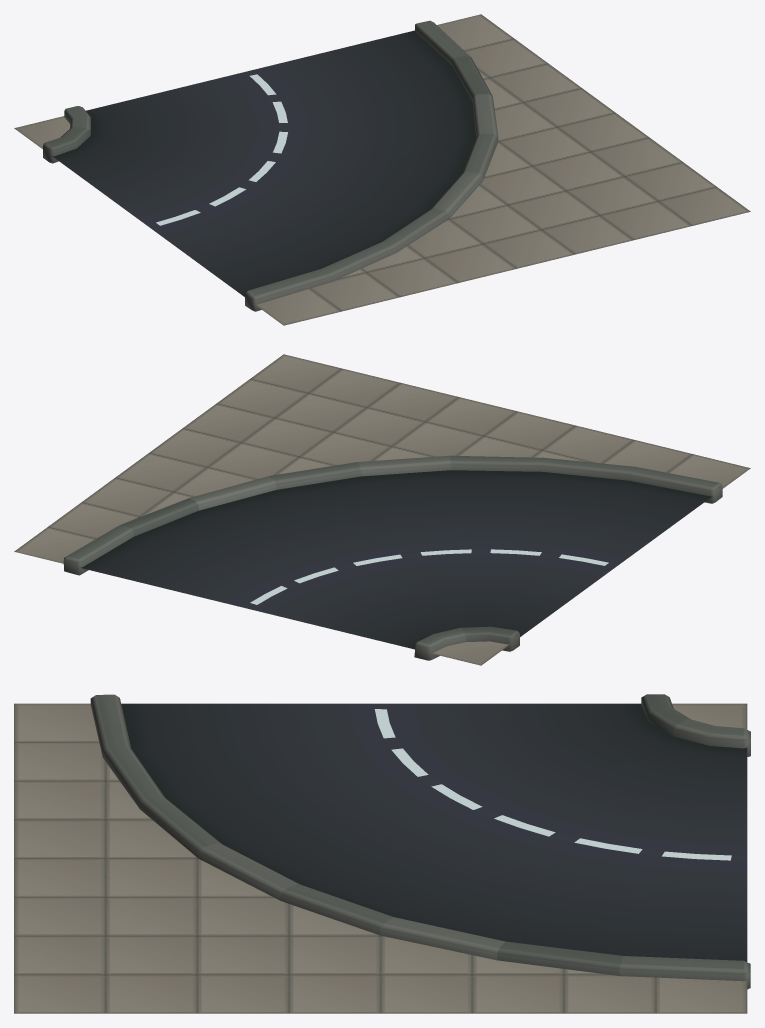
3 renders of one model, top to bottom at view 1: azimuth 30°, elevation 25°; view 2: azimuth 150°, elevation 25°; view 3: azimuth 270°, elevation 25°, orthographic. The views are drawn at different scales.
Parts seen in each view (by area): view 1: road_section_turn_tight.001, road_section_turn_tight_sidewalk, road_section_turn_tight; view 2: road_section_turn_tight.001, road_section_turn_tight_sidewalk, road_section_turn_tight; view 3: road_section_turn_tight.001, road_section_turn_tight_sidewalk, road_section_turn_tight.
Part boxes in pixels (box(x1,y1,x2,y2)): road_section_turn_tight.001: box(52, 30, 476, 296); road_section_turn_tight_sidewalk: box(14, 14, 750, 325); road_section_turn_tight: box(43, 20, 498, 311); road_section_turn_tight.001: box(80, 470, 712, 649); road_section_turn_tight_sidewalk: box(14, 354, 750, 665); road_section_turn_tight: box(63, 455, 722, 660); road_section_turn_tight.001: box(121, 703, 747, 961); road_section_turn_tight_sidewalk: box(14, 703, 747, 1013); road_section_turn_tight: box(90, 694, 750, 989).
Size of the model in its own units: 16.06 by 0.5475 by 16.08.
3 materials, 3 textured.
